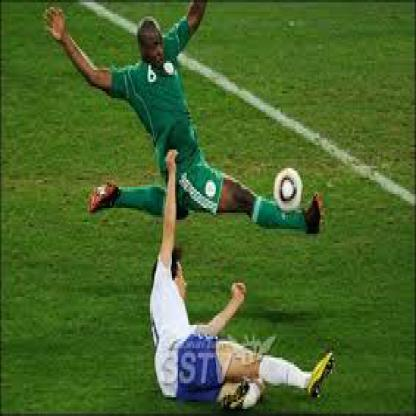Fall_Down: (149, 146, 337, 414)
